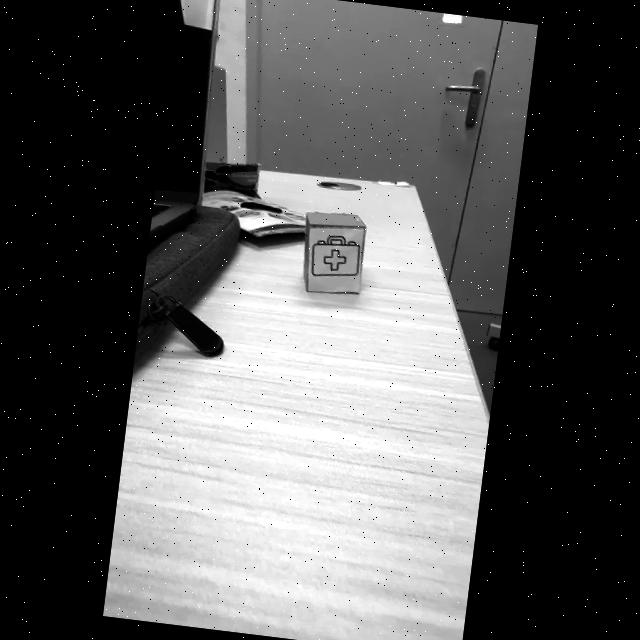Medkit: (311, 235, 360, 276)
